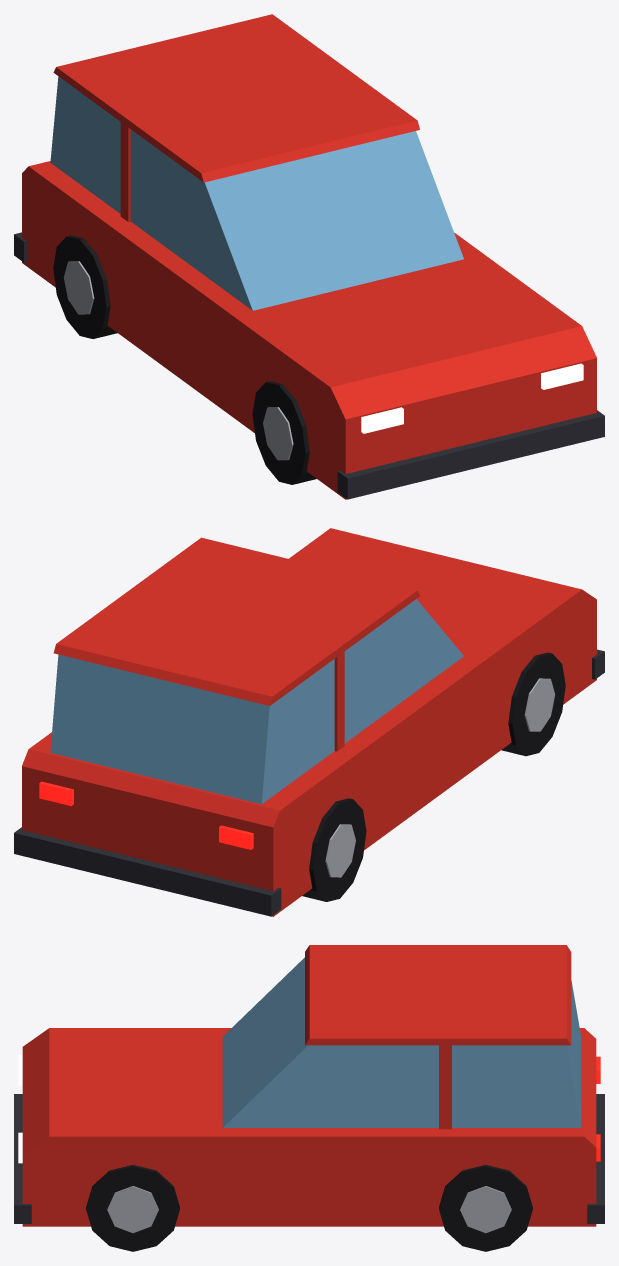
File: car_hatchback.glb
3 renders of one model, top to bottom at view 1: azimuth 30°, elevation 25°; view 2: azimuth 150°, elevation 25°; view 3: azimuth 270°, elevation 25°, orthographic. The views are drawn at different scales.
Parts seen in each view (by area): view 1: car_hatchback; view 2: car_hatchback; view 3: car_hatchback.
Boxes of the visible parts, box(x1,y1,x2,y2) form: car_hatchback: box(14, 14, 604, 499); car_hatchback: box(14, 528, 604, 916); car_hatchback: box(14, 945, 604, 1251).
Size of the model in its own units: 1.83 by 1.53 by 4.02.
